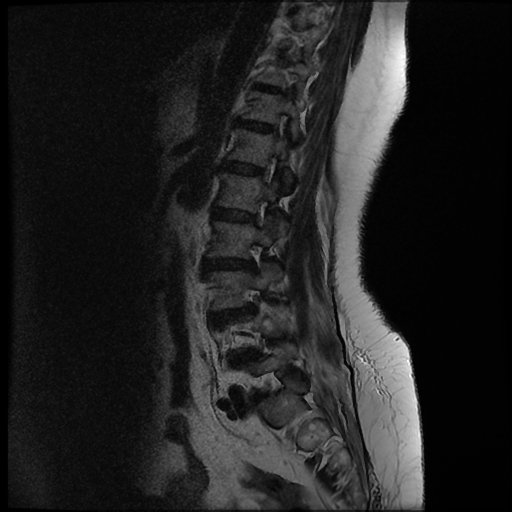LFS1: (238, 234, 273, 280)
